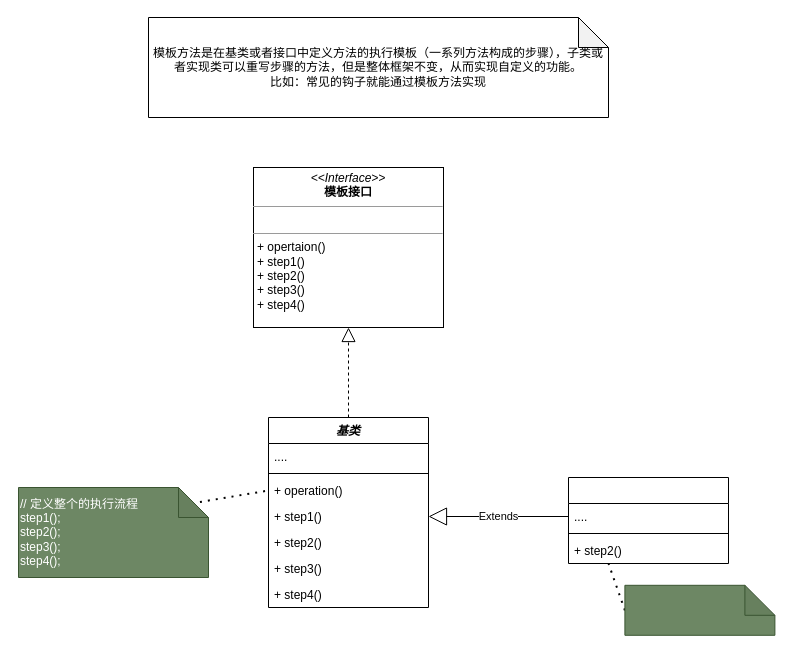
This 792x653 diagram has some shape labels left out. Here are the shapes that lost their labels. From the top down, the box of each, then its label:
(568, 476, 728, 564): 子类
(624, 584, 775, 635): // 重写的方法 ....
